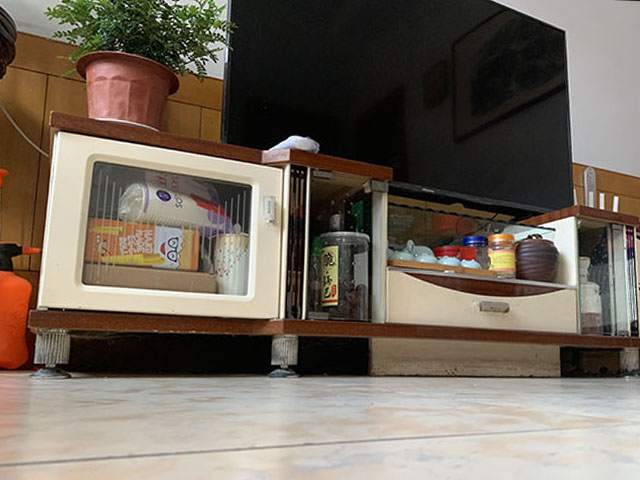cabinet: (28, 104, 640, 381)
